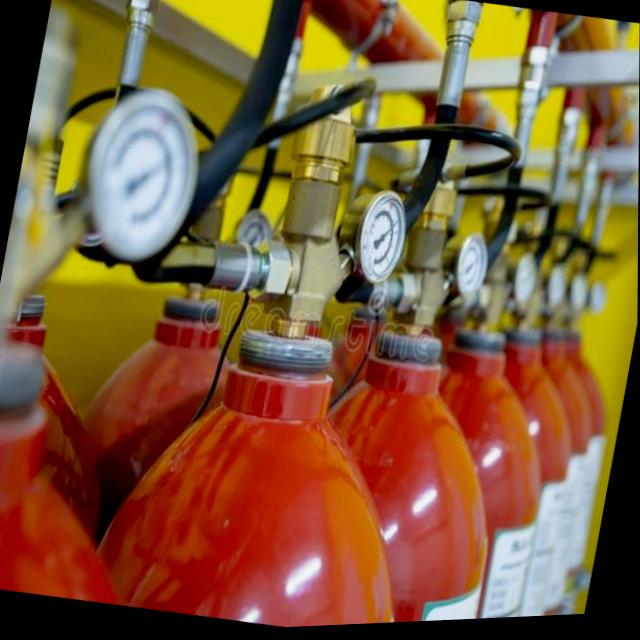FireExtinguisher: (73, 42, 510, 637), (229, 120, 567, 632), (308, 203, 594, 629)
